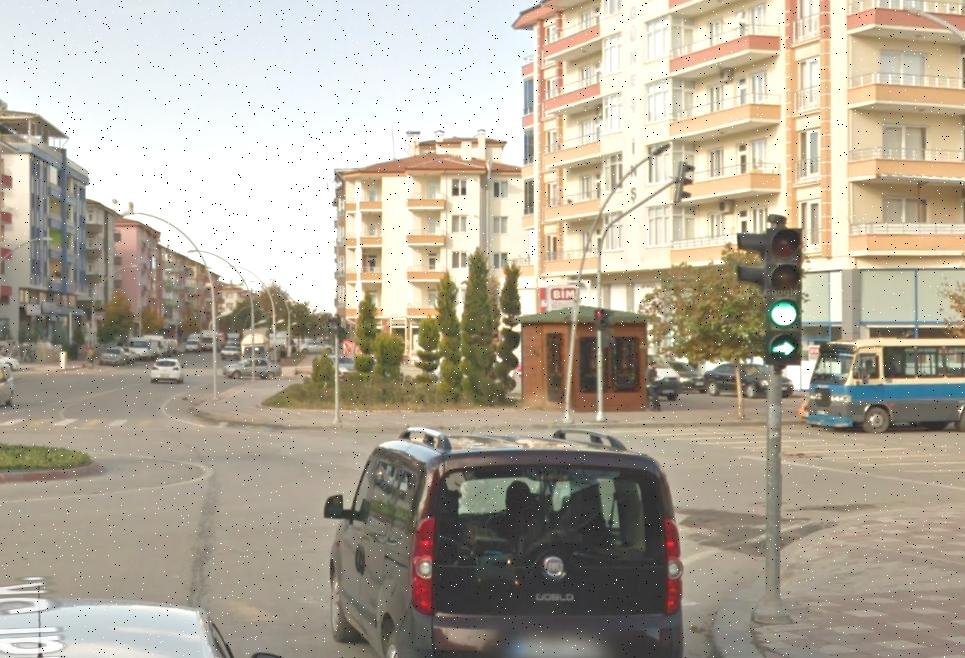greenlight: (766, 226, 801, 333)
